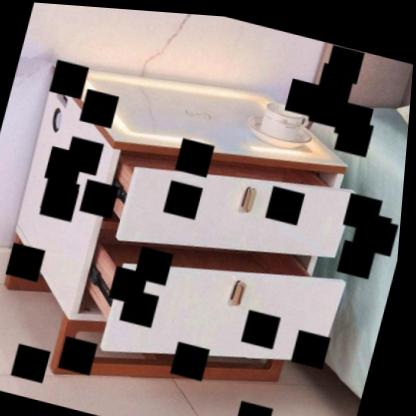Nightstand: (0, 42, 386, 397)
